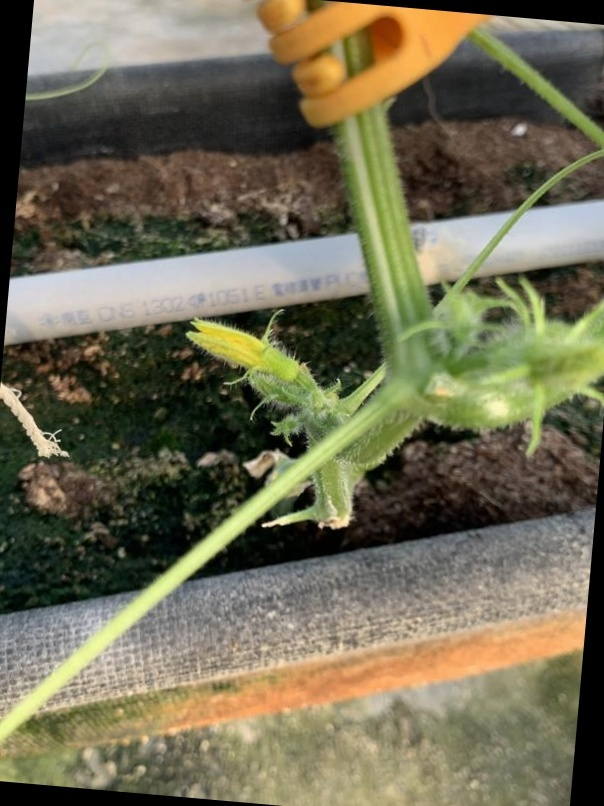bud: (184, 315, 304, 387)
